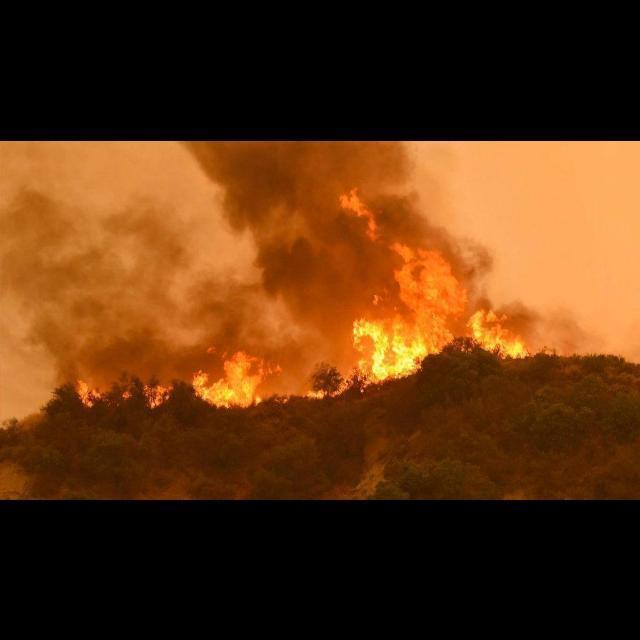Fire: (350, 308, 531, 379), (190, 346, 282, 410), (75, 378, 109, 408), (142, 383, 174, 409), (121, 390, 132, 400)
Smoke: (0, 140, 588, 294), (1, 297, 216, 374), (220, 294, 351, 345), (279, 355, 353, 401)
